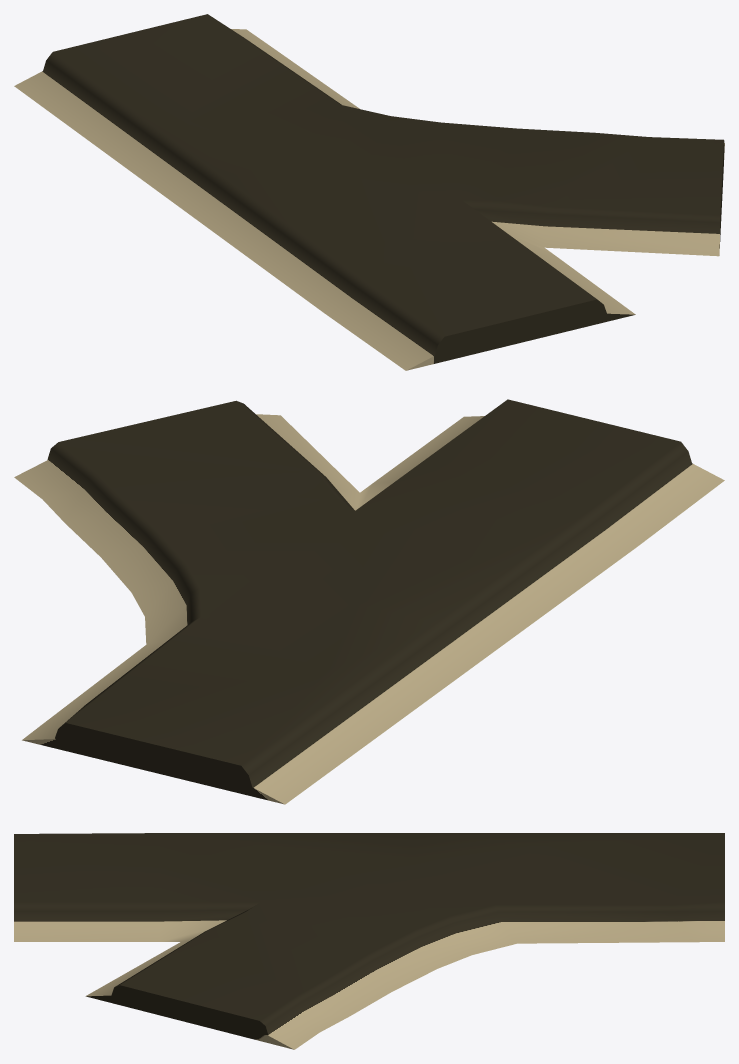
File: Road_Fork.fbx
3 views of the same model, one above another, from view 1: azimuth 30°, elevation 25°; view 2: azimuth 150°, elevation 25°; view 3: azimuth 270°, elevation 25° (orthographic). The views are drawn at different scales.
Visible parts, largest first — view 1: Road_Fork; view 2: Road_Fork; view 3: Road_Fork.
Part boxes in pixels (x1,y1,x2,y2): Road_Fork: (14,14,724,370); Road_Fork: (14,399,724,804); Road_Fork: (14,833,724,1049).
Size of the model in its own units: 0.6131 by 0.8712 by 0.0314.
